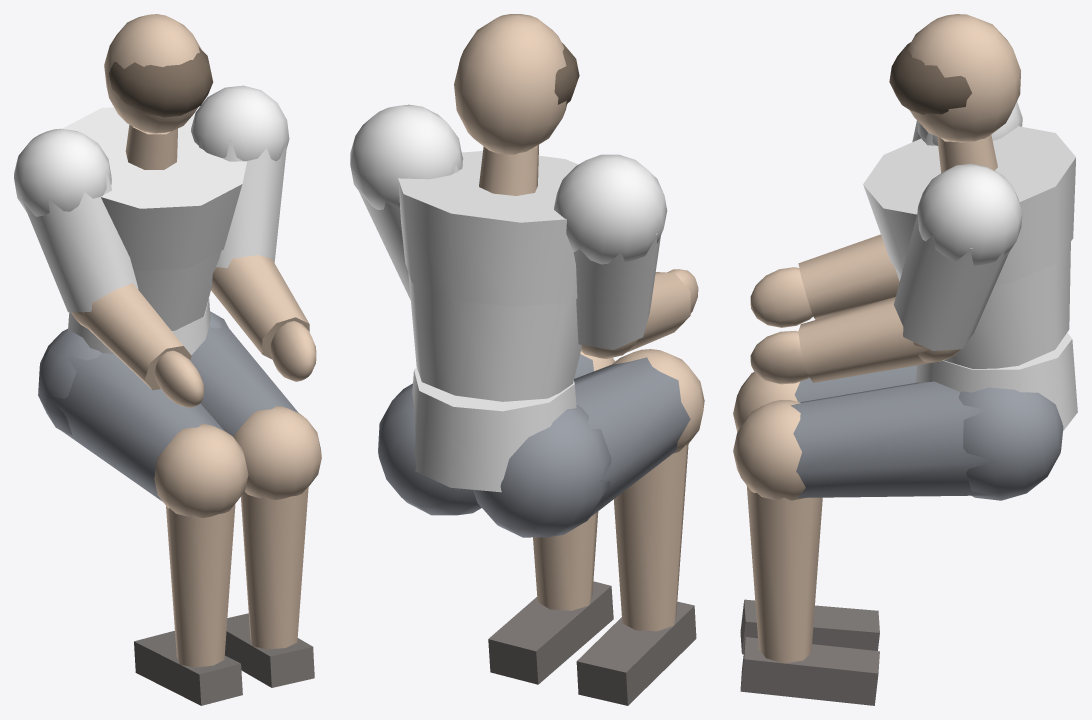
Rendered from crowd_a_sit.glb.
3 renders of one model, left to right at view 1: azimuth 30°, elevation 25°; view 2: azimuth 150°, elevation 25°; view 3: azimuth 270°, elevation 25°, orthographic. The views are drawn at different scales.
Visible parts, largest first — view 1: crowd_a_body; view 2: crowd_a_body; view 3: crowd_a_body.
Boxes of the visible parts, bbox=[...] form: crowd_a_body: bbox=[14, 14, 321, 705]; crowd_a_body: bbox=[350, 14, 704, 705]; crowd_a_body: bbox=[733, 14, 1077, 705].
Bounding box in the file's own units: 0.6271 × 1.4 × 0.6661.
